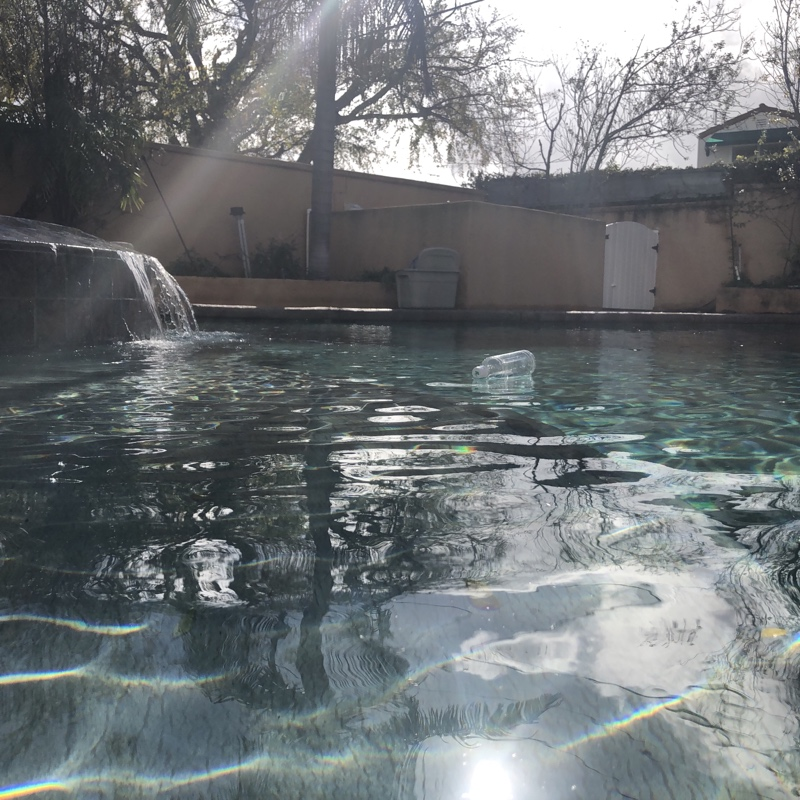Plastic Bottle: (469, 351, 541, 383)
